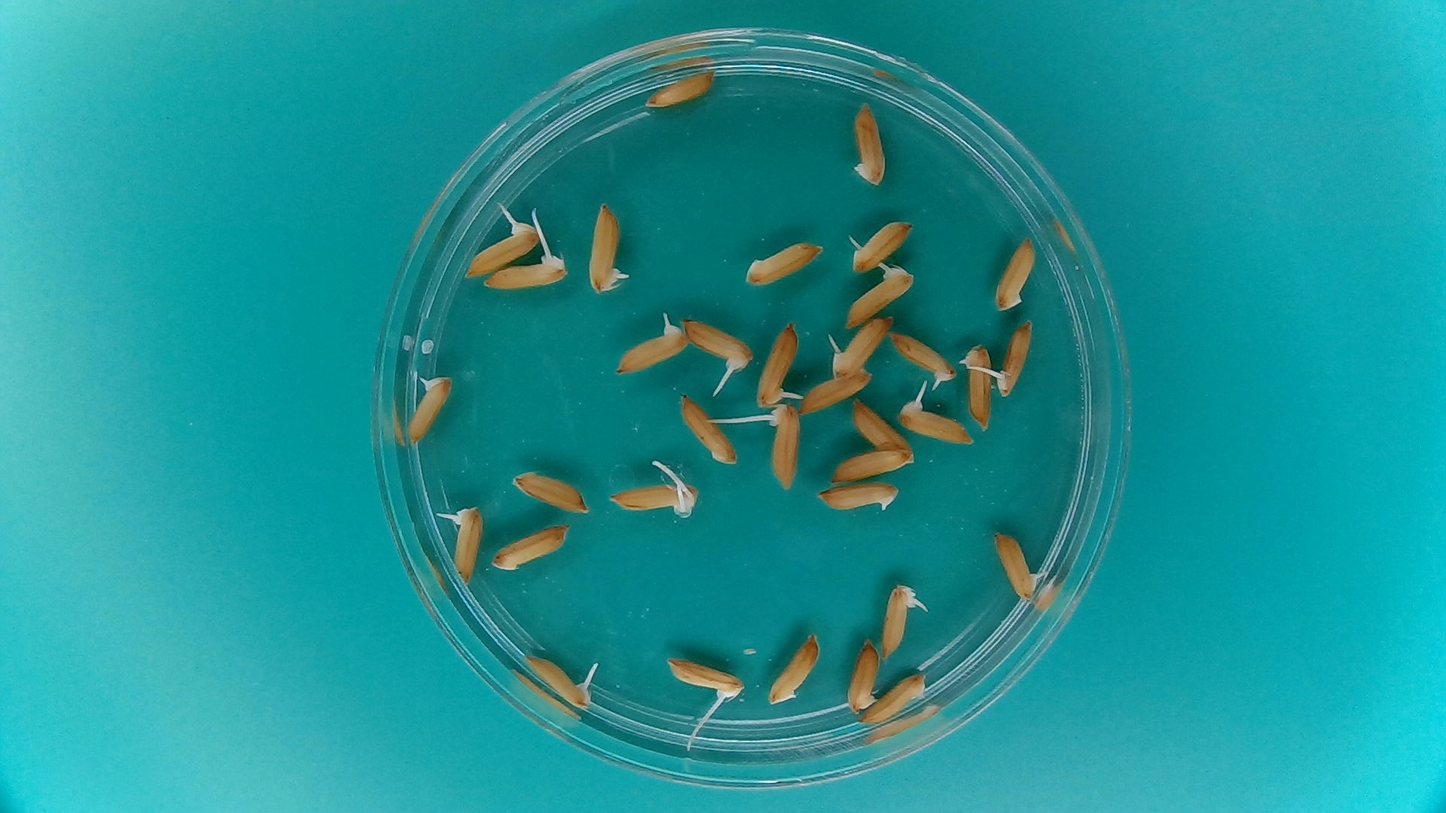no: (679, 392, 738, 466), (767, 629, 822, 706), (489, 521, 571, 572), (859, 669, 931, 727), (741, 239, 824, 287), (508, 469, 590, 516), (850, 398, 913, 457), (993, 233, 1039, 312), (798, 370, 876, 416), (849, 97, 888, 188), (850, 219, 915, 273), (644, 66, 720, 109), (814, 478, 901, 515), (829, 446, 913, 484), (961, 341, 996, 429), (845, 637, 880, 714)
yes: (680, 315, 755, 373), (466, 218, 537, 276), (754, 319, 799, 409), (609, 476, 701, 518), (844, 267, 911, 324), (618, 324, 691, 375), (829, 317, 892, 376), (662, 653, 741, 700), (529, 657, 597, 711), (888, 330, 958, 382), (587, 199, 625, 293), (897, 399, 973, 446), (480, 249, 563, 291), (405, 373, 452, 447), (991, 529, 1039, 601), (765, 400, 801, 489), (877, 586, 916, 661), (994, 322, 1031, 400), (452, 501, 485, 583)
